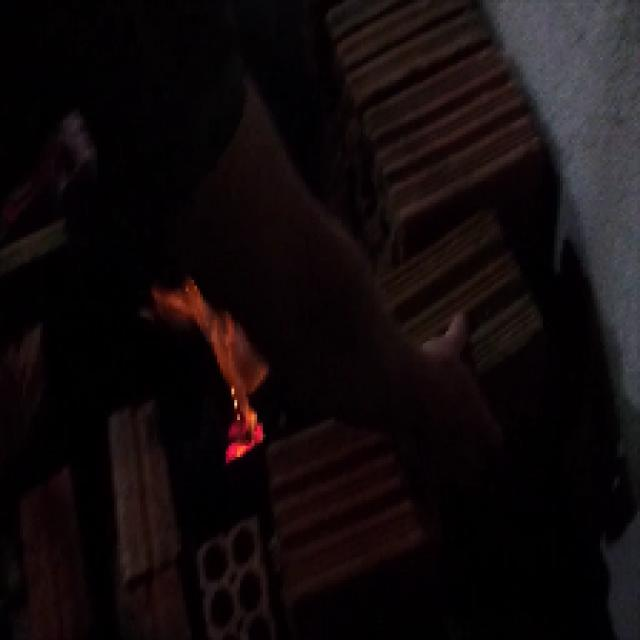fire: (138, 277, 268, 412)
